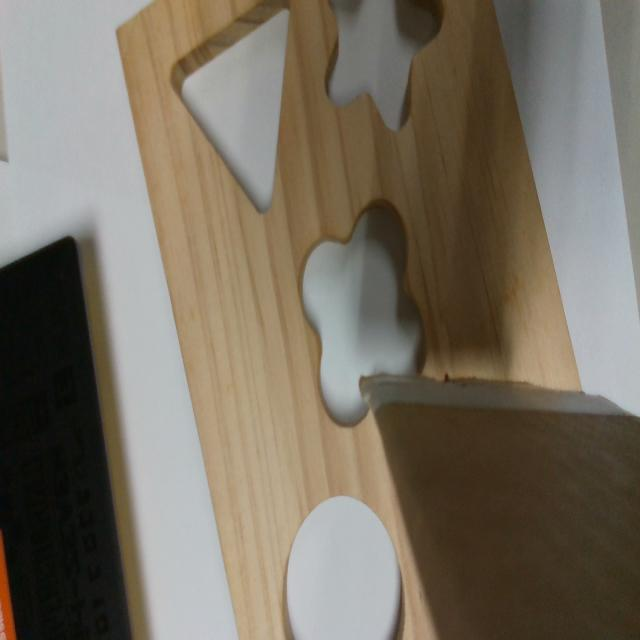circle: (285, 496, 400, 638)
flower: (300, 199, 426, 418)
star: (325, 3, 441, 127)
triangle: (173, 0, 293, 214)
